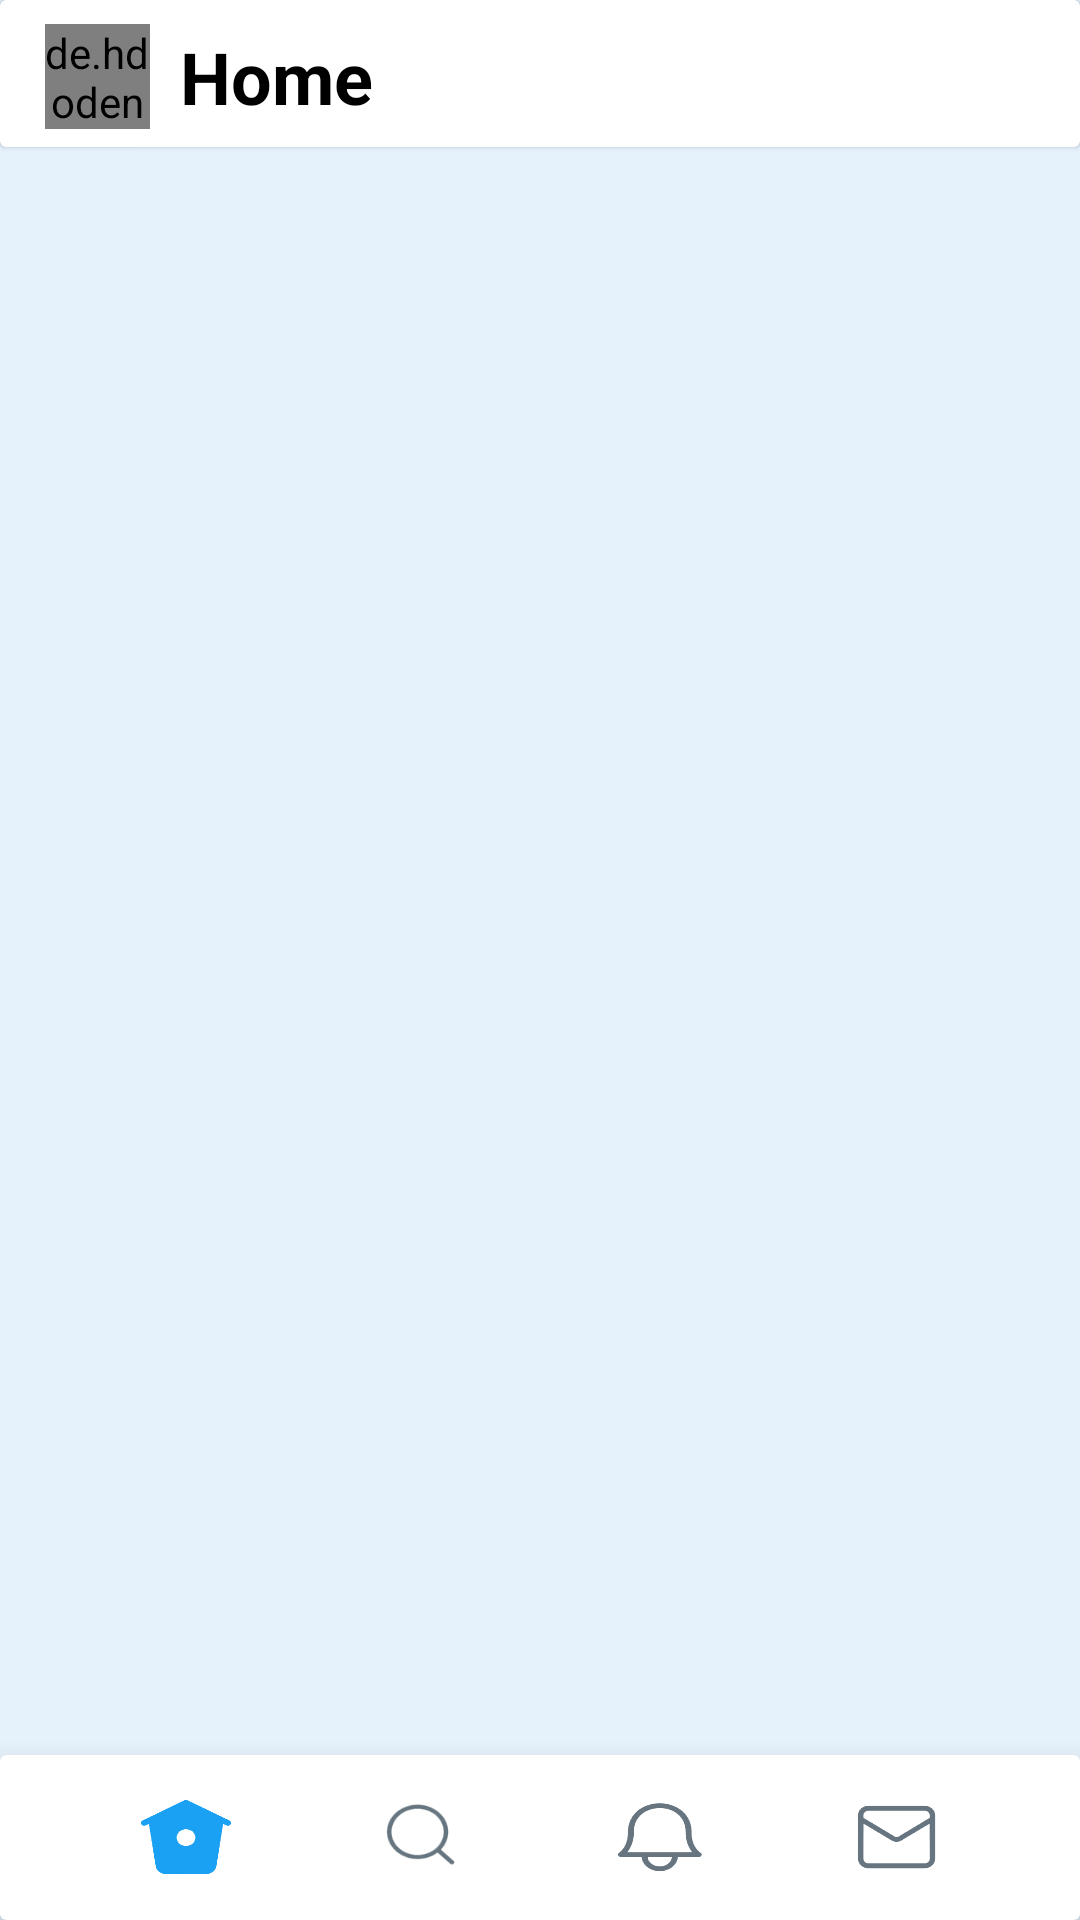

Where to tap for icons on this 1080px x 1920px app screen, as point (x, y):
home: point (186, 1837)
mess: point (896, 1837)
notiff: point (660, 1837)
search: point (421, 1834)
